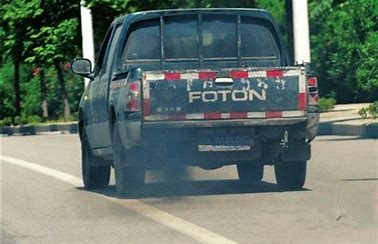smoke: (129, 128, 214, 205)
